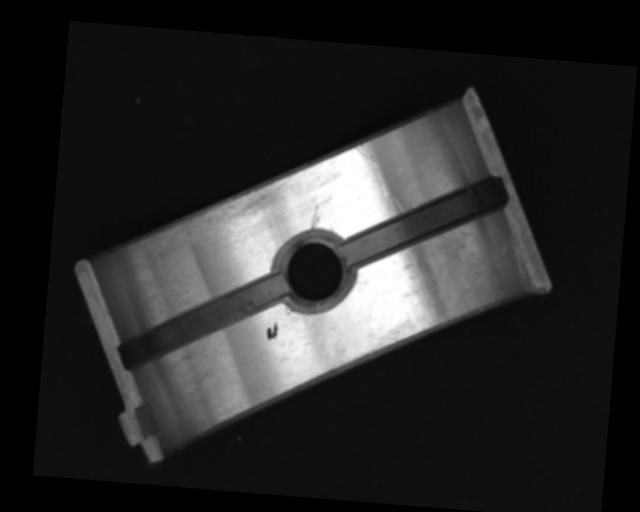blot: (265, 321, 279, 342)
gap: (116, 263, 286, 381), (343, 167, 509, 277)
hole: (270, 227, 358, 315)
nick: (351, 144, 393, 199), (310, 204, 320, 229)
scratch: (131, 166, 288, 261)
